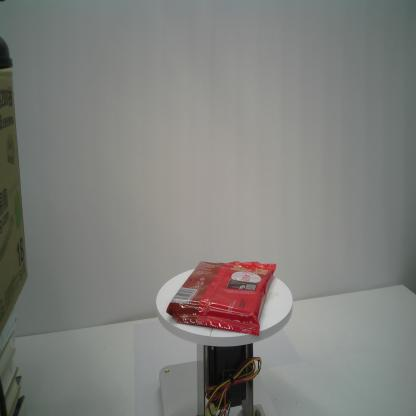Dessert: (166, 260, 277, 338)
